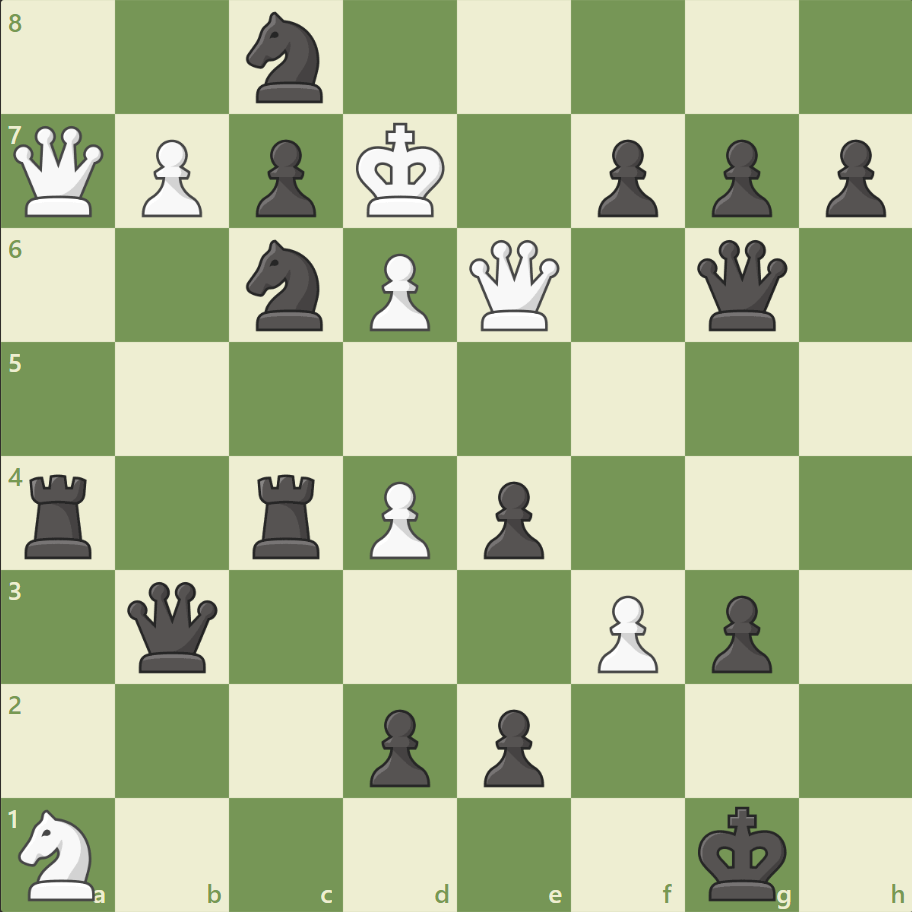K: (351, 117, 451, 225)
N: (11, 802, 108, 904)
P: (133, 132, 208, 223), (361, 246, 435, 337), (361, 473, 435, 564), (588, 586, 662, 677)
Q: (10, 122, 109, 222), (464, 236, 563, 335)
k: (692, 798, 792, 906)
n: (238, 7, 335, 110), (238, 234, 335, 337)
p: (247, 132, 322, 223), (701, 132, 776, 223), (474, 473, 549, 564), (701, 586, 776, 677), (474, 700, 549, 791), (588, 132, 662, 223), (815, 132, 889, 223), (361, 700, 435, 791)
q: (124, 576, 223, 676), (691, 236, 790, 335)
r: (19, 466, 102, 563), (246, 466, 329, 563)
